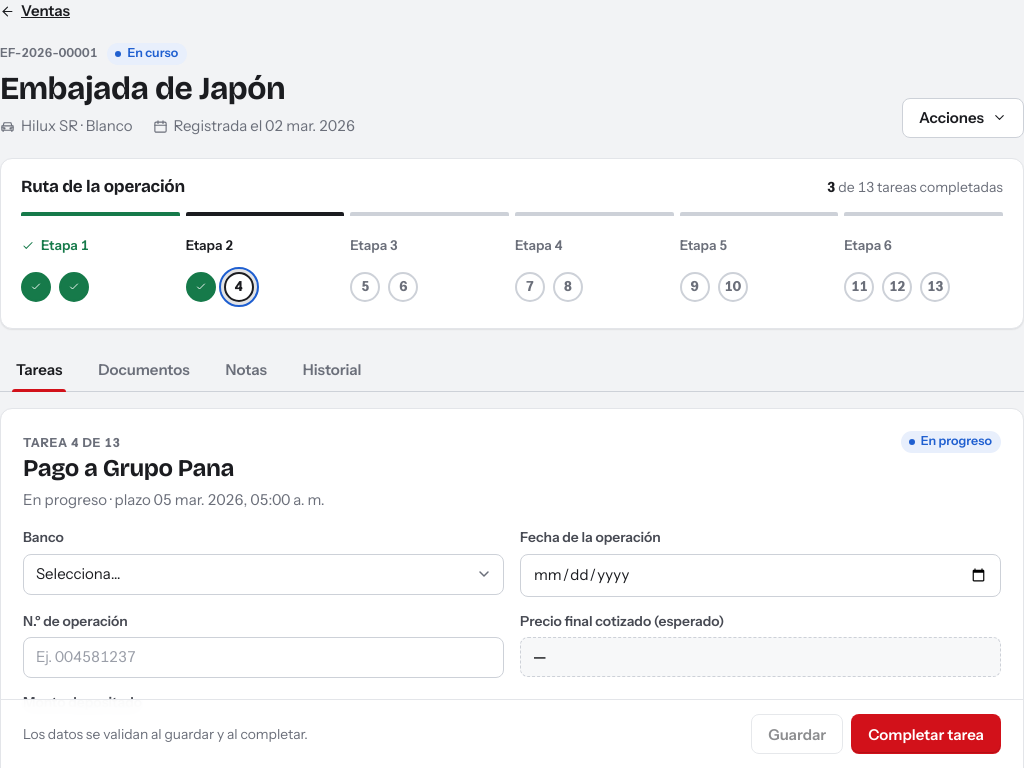
Test: the dialogs send what the backend expects › closes a dialog with Escape
The image size is (1024, 768).
Click the button with aria-label "Acciones de la venta".
click(963, 118)  # box x1=902 y1=98 x2=1023 y2=138
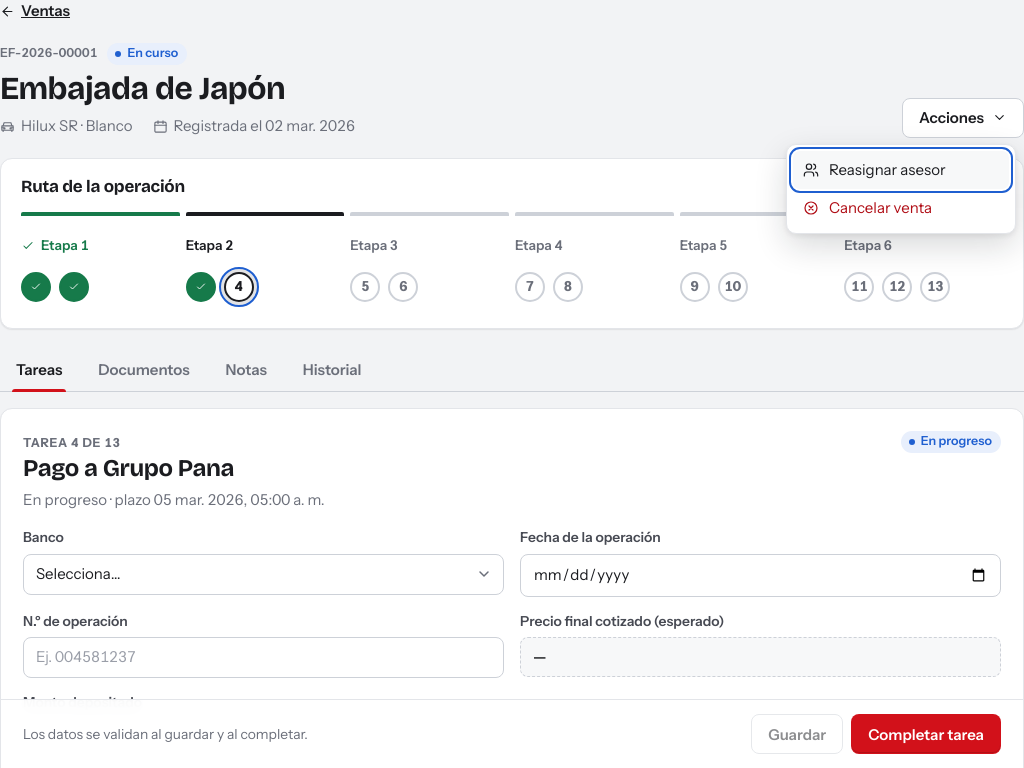
Click the menu item "Cancelar venta".
click(901, 208)  # box x1=793 y1=189 x2=1009 y2=227
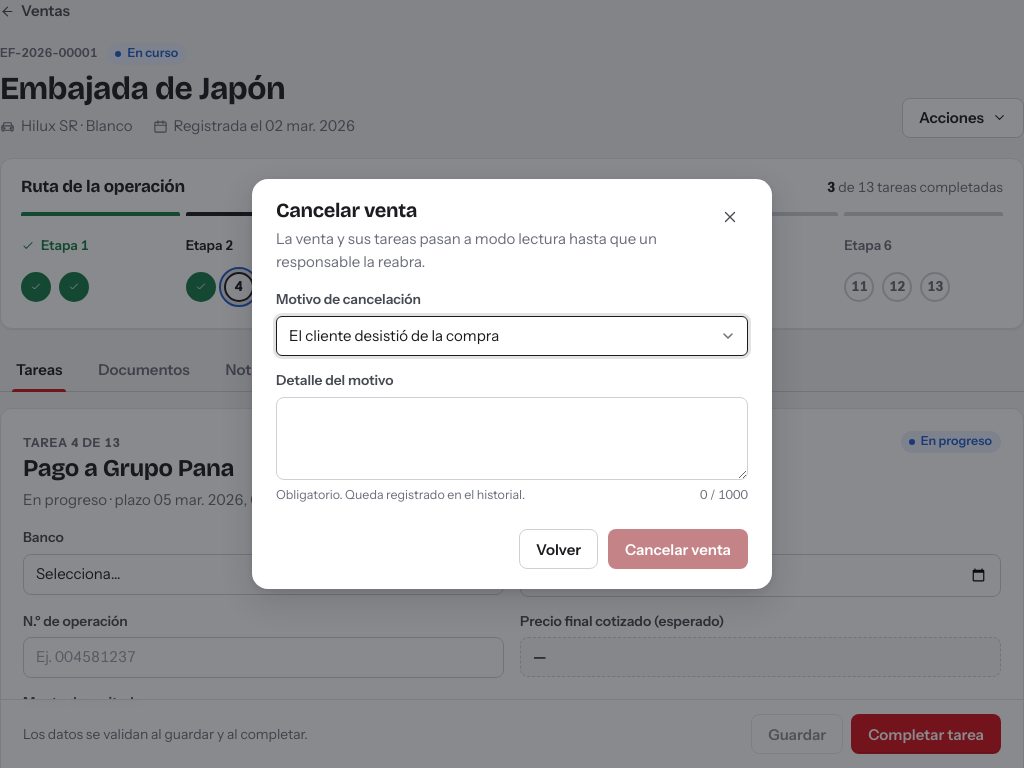
Expected: the dialog is shown, x1=252 y1=179 x2=772 y2=589
Press Escape
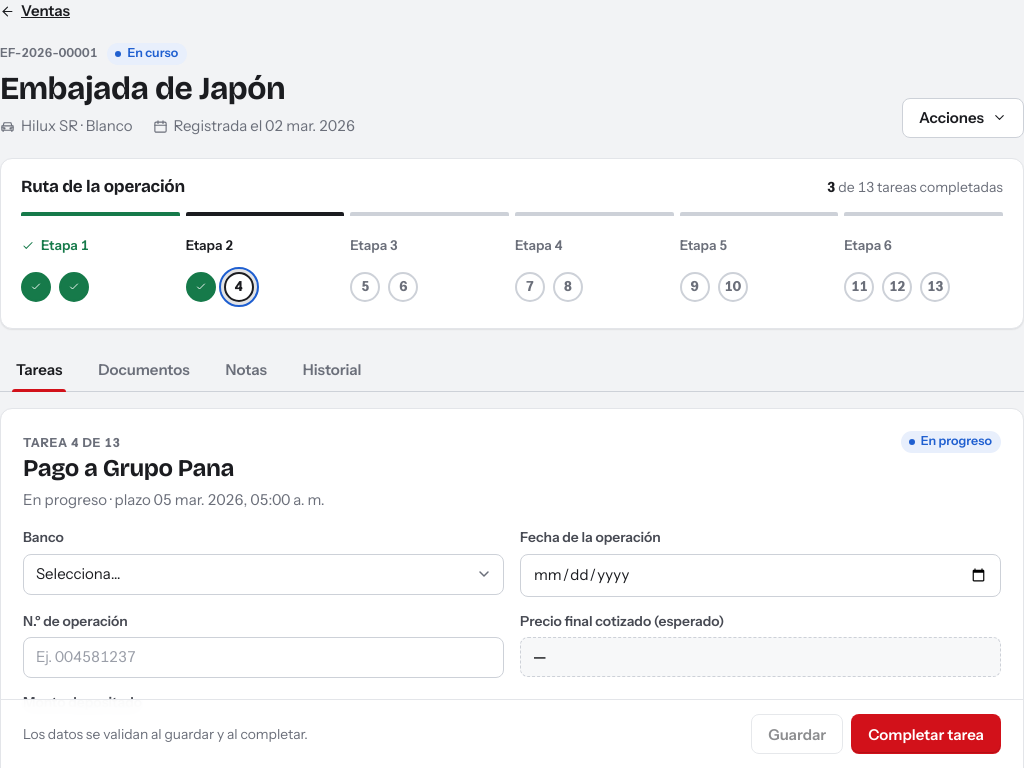
Expected: the dialog is gone
